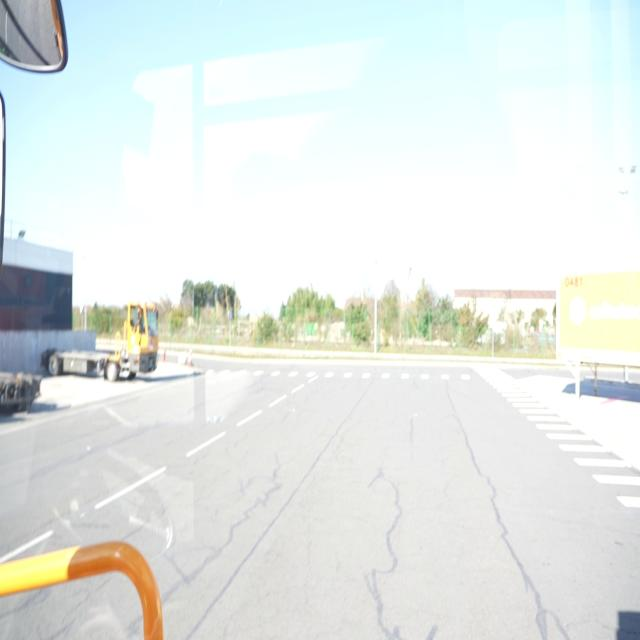Code: (562, 271, 588, 294)
